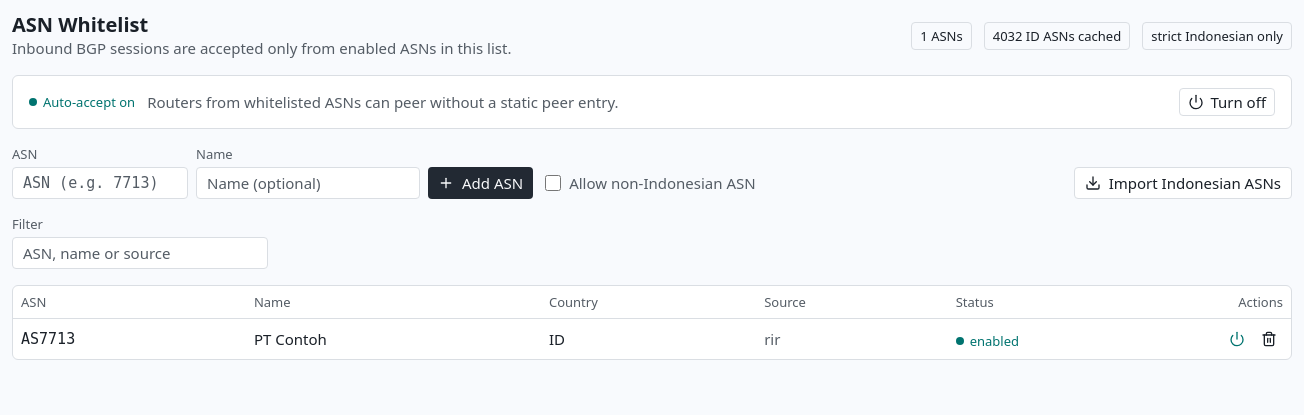
Scenario: Whitelist Page › shows a validation error from the API
Check: the text "AS7713" is shown, box [13,318,246,358]
Step 1. Type "65002" into the number field with placeholder "ASN (e.g. 7713)" → x=100, y=183, box [12,167,188,199]
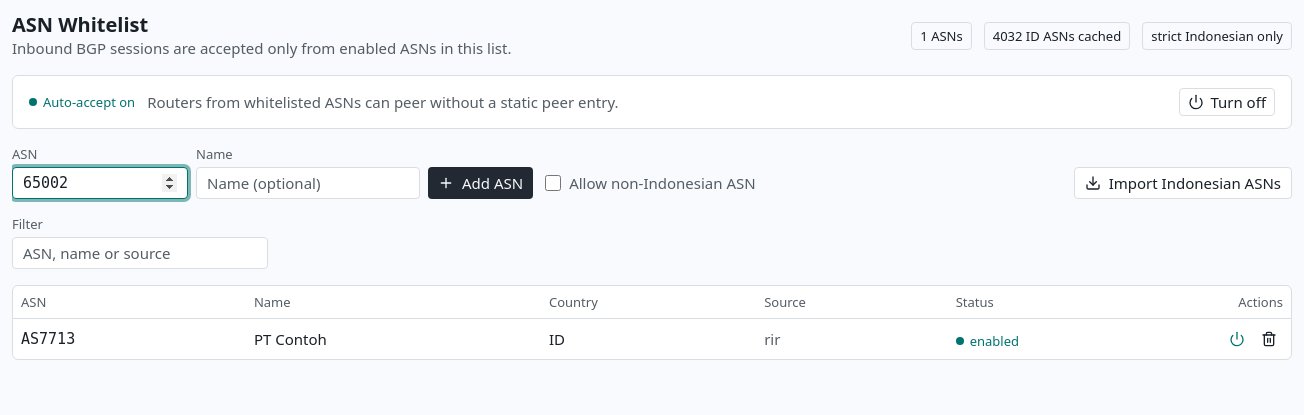
Step 2. Click the button "Add ASN" → x=481, y=183, box [428,167,533,199]
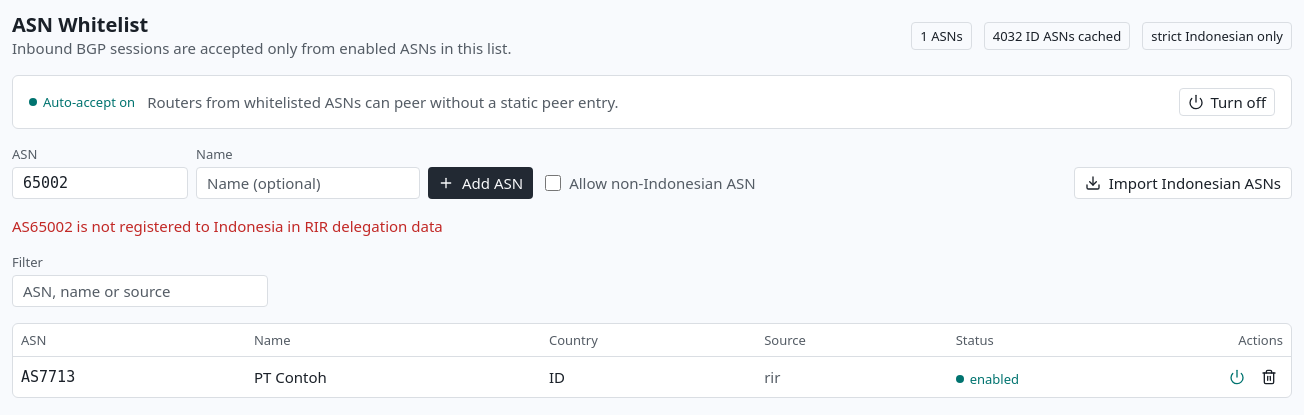
Check: the text "AS65002 is not registered to Indonesia in RIR delegation data" is shown, box [12,216,443,236]
